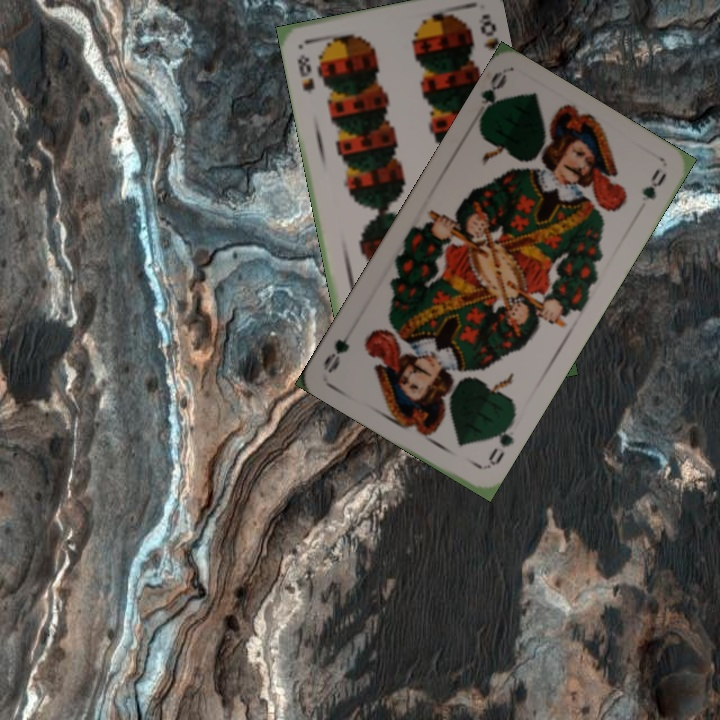GO: (474, 68, 509, 127), (480, 416, 517, 471)
S8: (293, 50, 317, 97)
